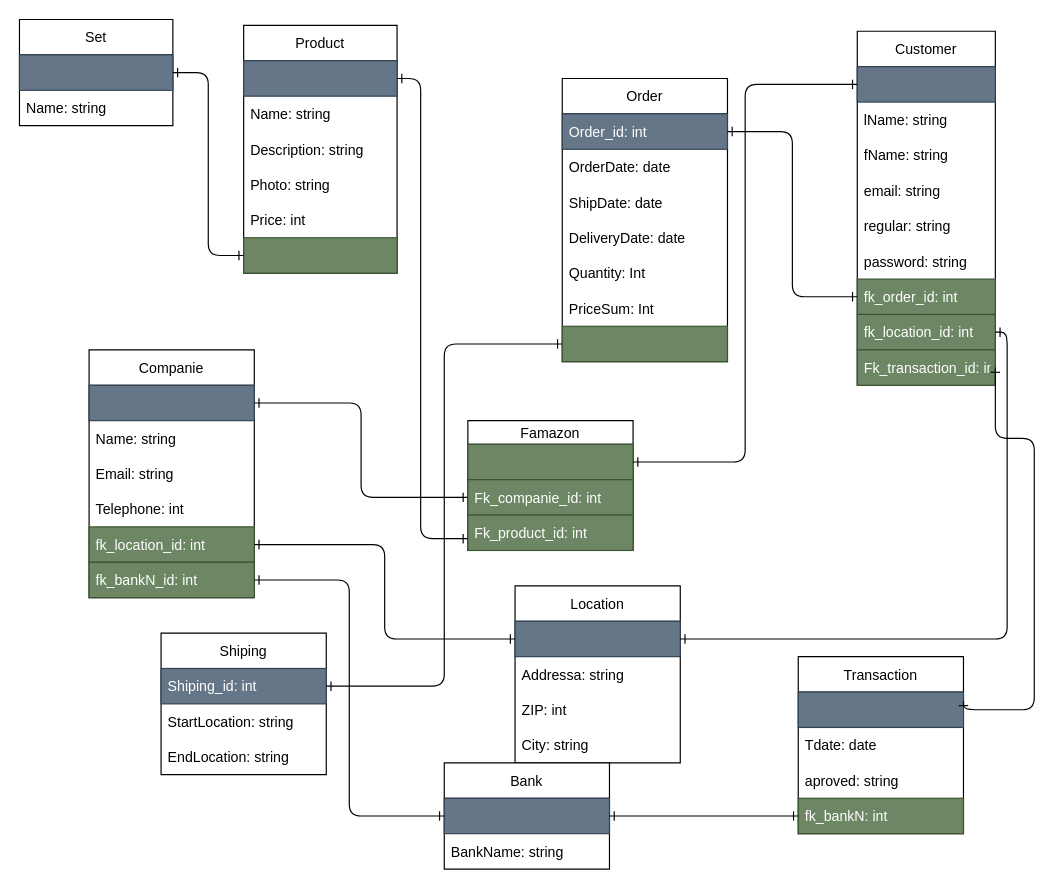
Image size: 1054x889. Some labels were removed from this diagram. The shapes that lost their labels are listed below. From the top down, each one's centre as x and y in pixels, then its label:
the point at 95,72: set_id: int
the point at 319,78: product_id: int
the point at 925,83: customer_id: int
the point at 319,255: fk_set_id: int
the point at 644,343: Fk_ship_id: int
the point at 171,402: Companie_id: int
the point at 550,461: Fk_customer_id: int
the point at 597,638: location_id: int
the point at 880,709: transaction_id: int
the point at 526,815: Bank_id: int
